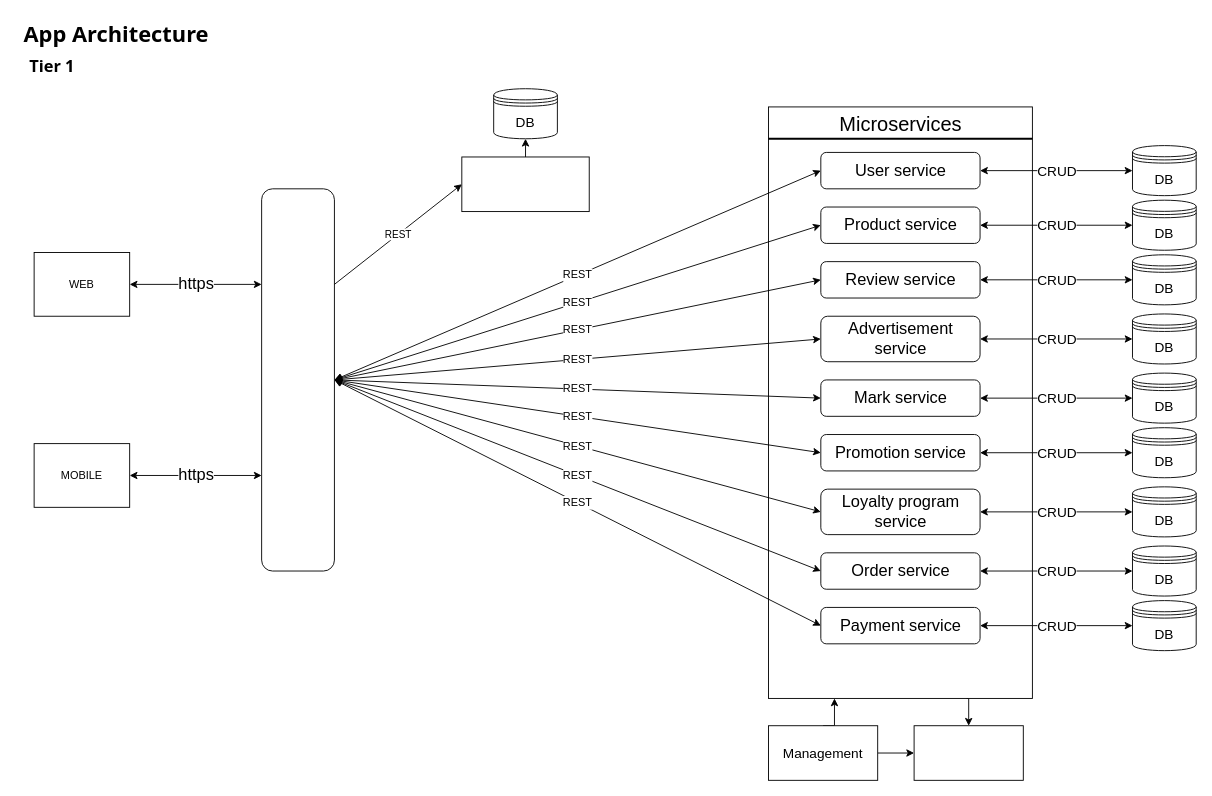
This 1212x796 diagram has some shape labels left out. Here are the shapes that lost their labels. From the top down, the centre of each, then its label:
At [525,184]: "Logger".
At [297,379]: "API Gateway".
At [968,752]: "Service Discovery".
